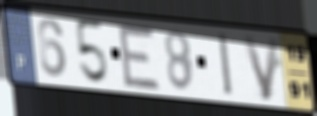5: (72, 18, 111, 86)
6: (35, 16, 70, 80)
8: (162, 29, 194, 93)
E: (115, 20, 163, 92)
I: (216, 31, 236, 99)
V: (240, 33, 281, 104)
